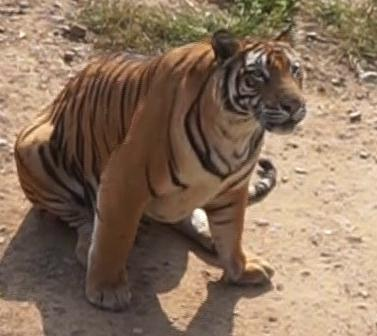tiger: (15, 29, 304, 310)
